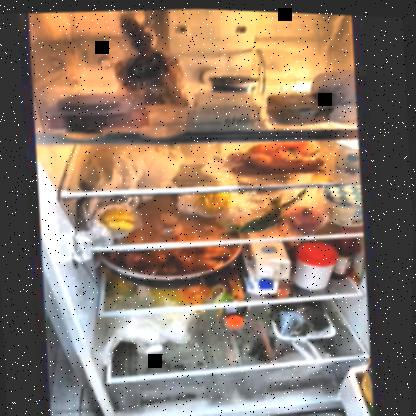broccoli: (272, 297, 335, 339)
butter: (267, 87, 333, 122)
carrot: (234, 134, 326, 175)
cheese: (191, 86, 258, 125)
green_chillies: (226, 203, 285, 231)
lemon: (97, 203, 143, 237), (195, 188, 234, 214)
milk: (243, 239, 292, 295)
salami: (55, 88, 129, 121)
tomato: (290, 199, 328, 231)
yoghurt: (326, 179, 365, 224), (211, 70, 260, 93), (334, 135, 361, 175)
